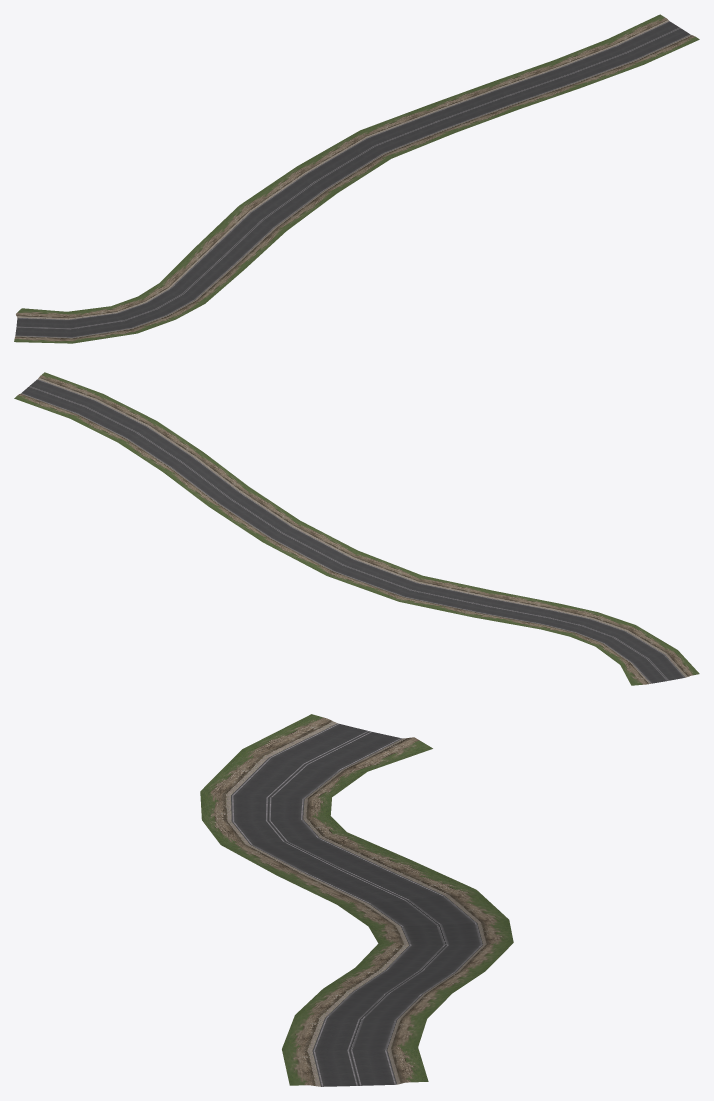
File: cunte_roads68.obj
The picture shows the model from 3 angles, top to bottom: view 1: azimuth 30°, elevation 25°; view 2: azimuth 150°, elevation 25°; view 3: azimuth 270°, elevation 25°; orthographic projection. The views are drawn at different scales.
Parts seen in each view (by area): view 1: cunte_roads68; view 2: cunte_roads68; view 3: cunte_roads68.
Part boxes in pixels (x1,y1,x2,y2): cunte_roads68: (14,14,699,343); cunte_roads68: (14,372,699,685); cunte_roads68: (200,714,513,1086).
Size of the model in its own units: 251 by 49.89 by 51.57.
